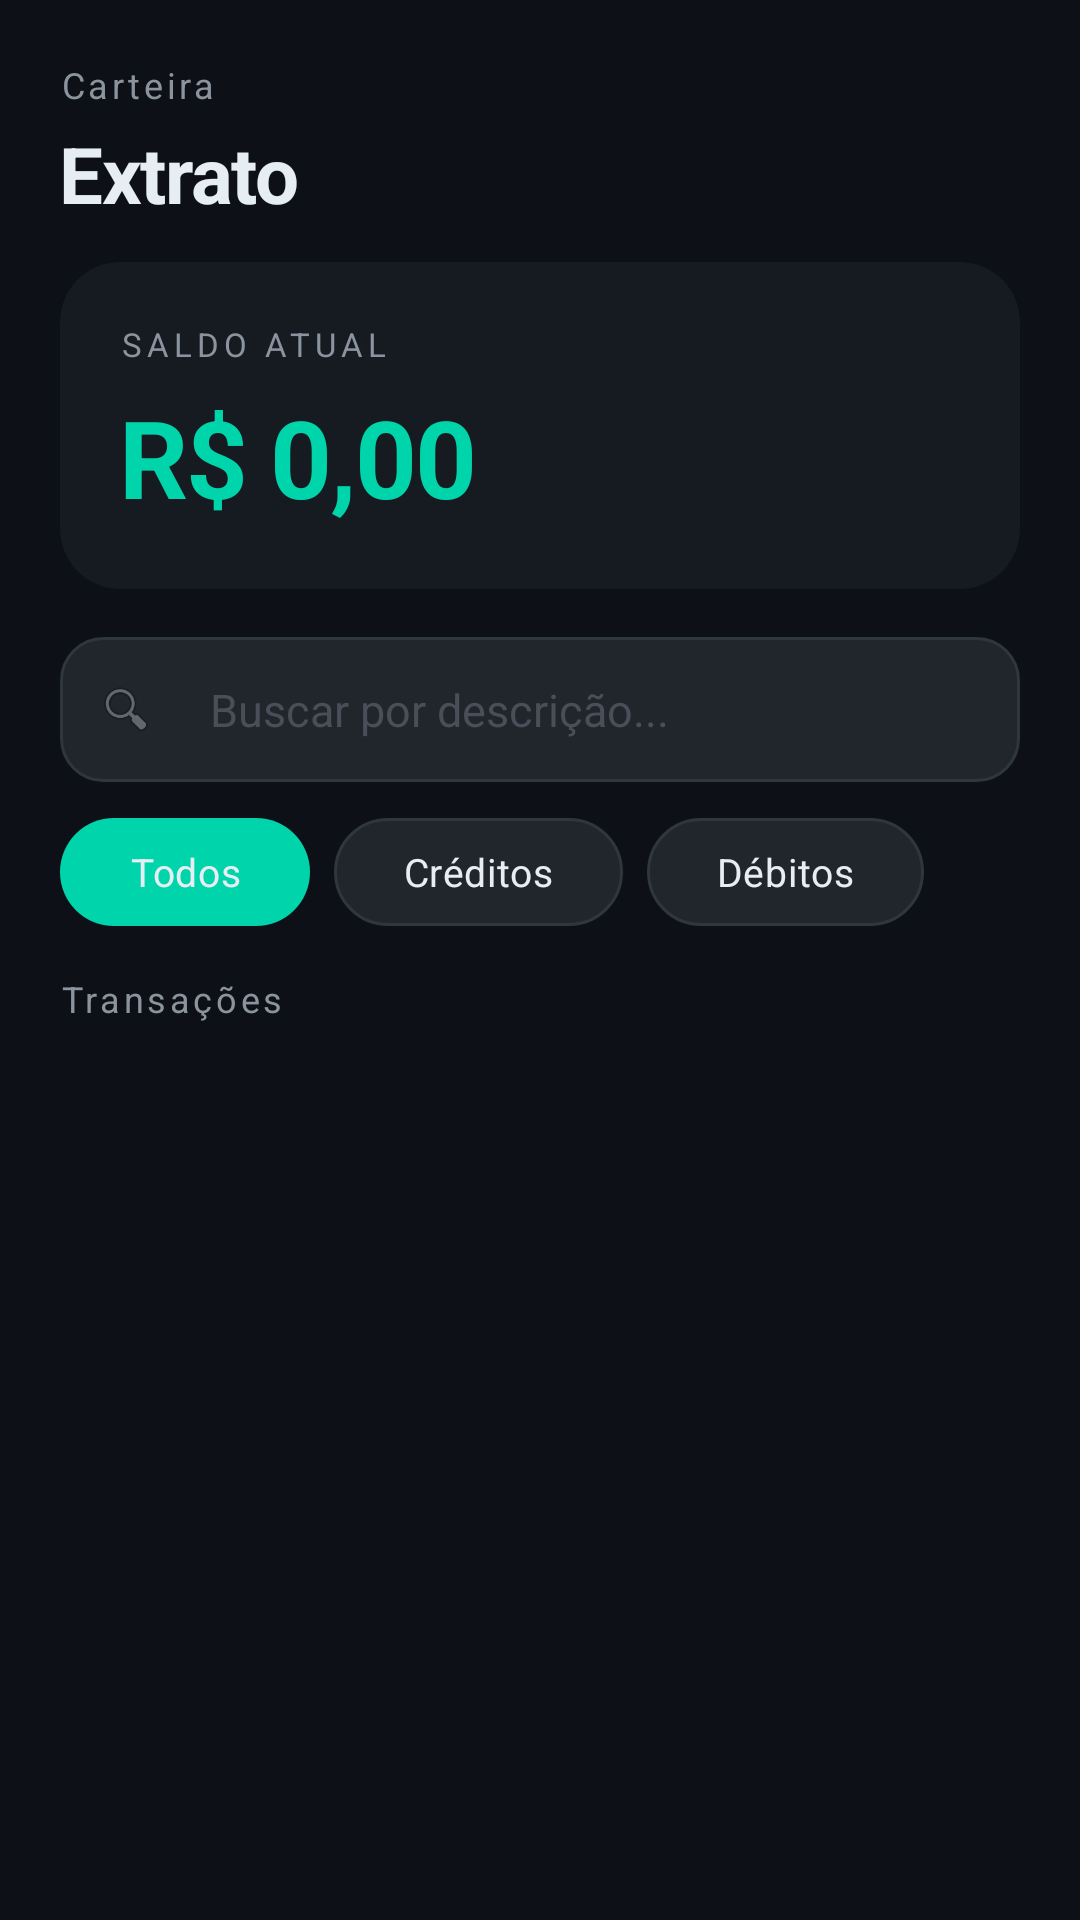

Point at icon controls on the screen. Image size 1080px x 1920px, points as (x=x, y=y).
search: (x=126, y=709)
